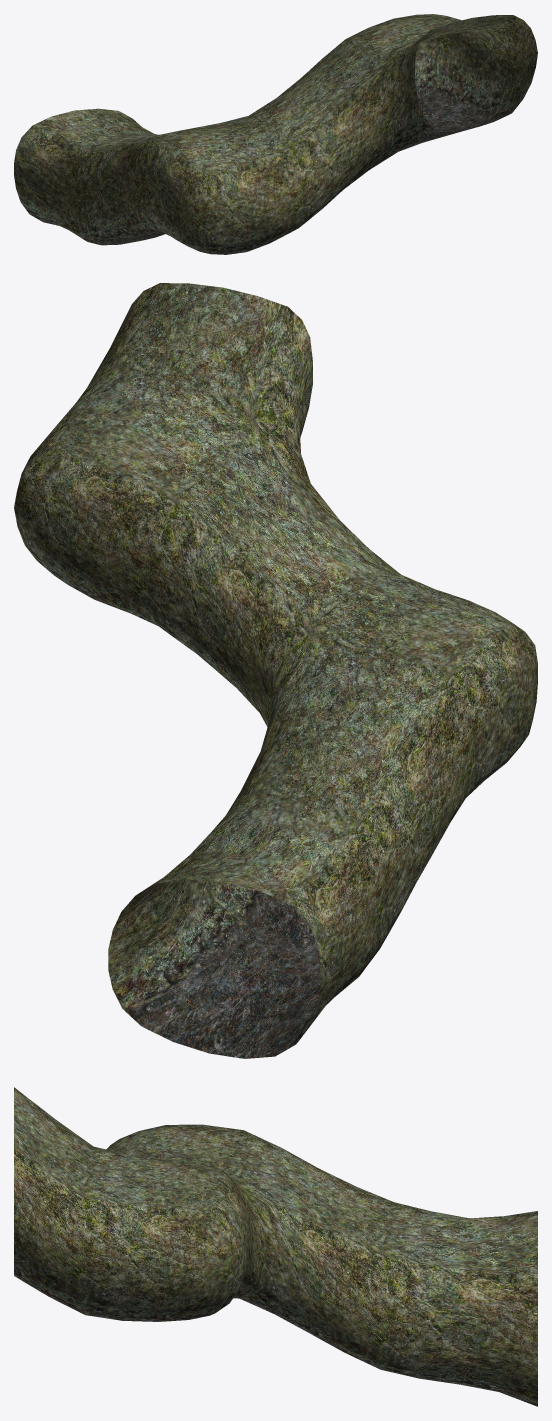
The model's file is thm_all_cave_flatland_s01_damprock_r2_mesh_r2.fbx.
The picture shows the model from 3 angles, top to bottom: view 1: azimuth 30°, elevation 25°; view 2: azimuth 150°, elevation 25°; view 3: azimuth 270°, elevation 25°; orthographic projection. The views are drawn at different scales.
Parts seen in each view (by area): view 1: mesh_node; view 2: mesh_node; view 3: mesh_node.
Boxes of the visible parts, x1=… form: mesh_node: x1=14, y1=14, x2=537, y2=254; mesh_node: x1=14, y1=283, x2=537, y2=1058; mesh_node: x1=14, y1=1087, x2=537, y2=1406.
Size of the model in its own units: 33.65 by 29.66 by 35.32.
